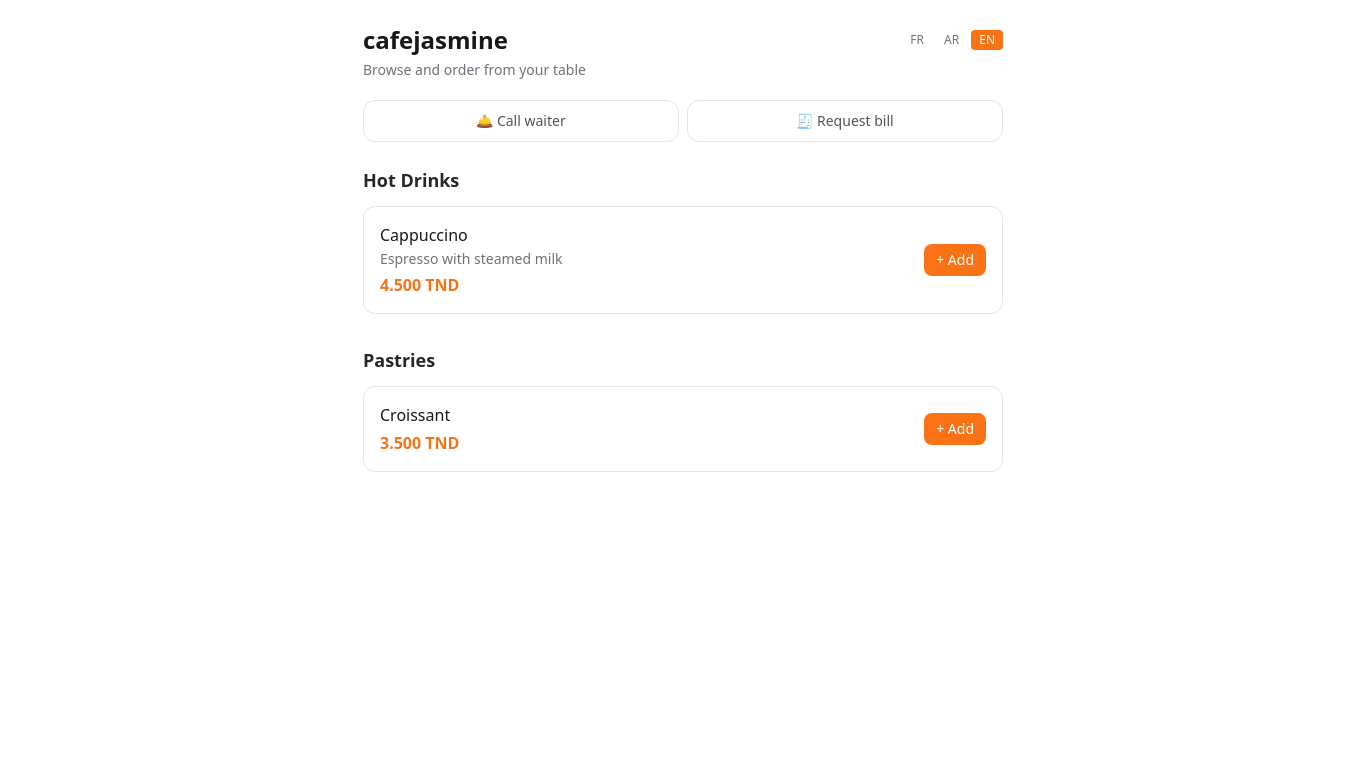
Test: CustomerMenu › adds item to cart and shows floating cart
Expected: the text "Cappuccino" is shown, x1=380 y1=224 x2=468 y2=246
Click the button "+ Add" in the row of "Espresso with steamed milk".
click(955, 260)  # box x1=924 y1=244 x2=986 y2=276
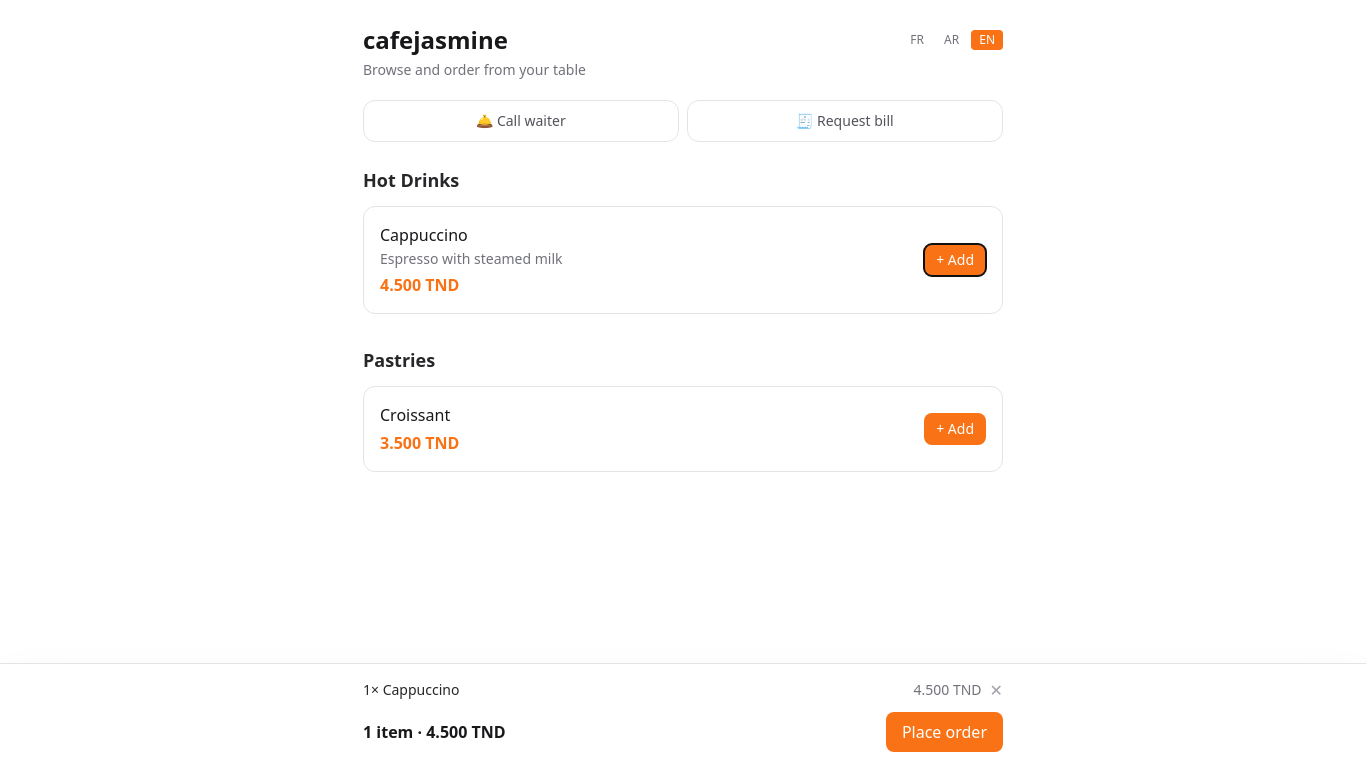
Expected: the text "1× Cappuccino" is shown, x1=363 y1=680 x2=459 y2=699
Expected: the button "Place order" is shown, x1=886 y1=712 x2=1003 y2=752
